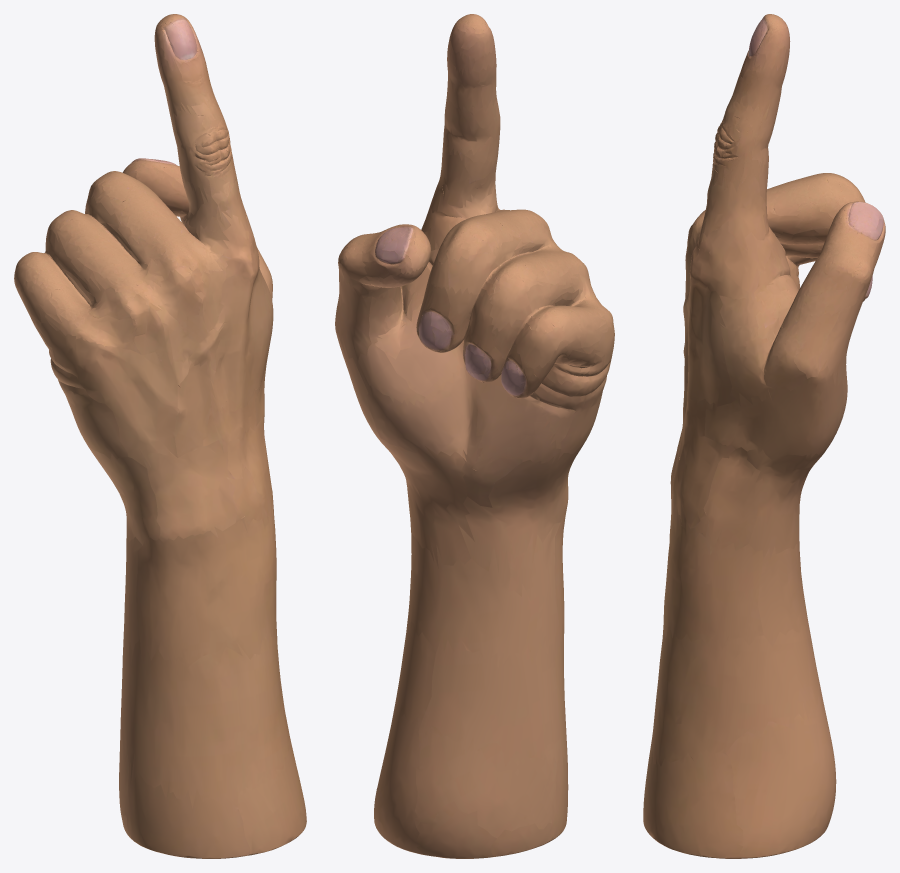
Rendered from hand.glb.
3 views of the same model, side by side, from view 1: azimuth 30°, elevation 25°; view 2: azimuth 150°, elevation 25°; view 3: azimuth 270°, elevation 25° (orthographic). The views are drawn at different scales.
Parts seen in each view (by area): view 1: mesh_node; view 2: mesh_node; view 3: mesh_node.
Boxes of the visible parts, x1,y1,x2,y2 form: mesh_node: (14,14,306,858); mesh_node: (335,14,614,858); mesh_node: (643,14,885,858).
Size of the model in its own units: 0.5983 by 1.9 by 0.5257.
Materials: 1 (1 with a texture image).
